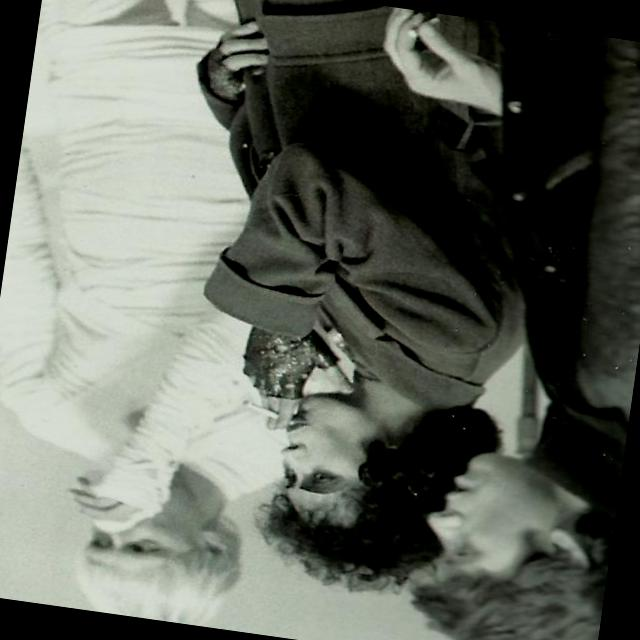cigarette: (236, 401, 296, 438)
